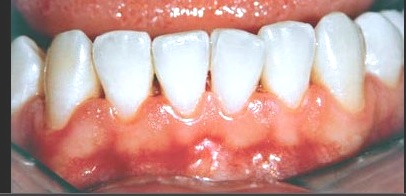Gingivitis: (75, 124, 328, 182)
